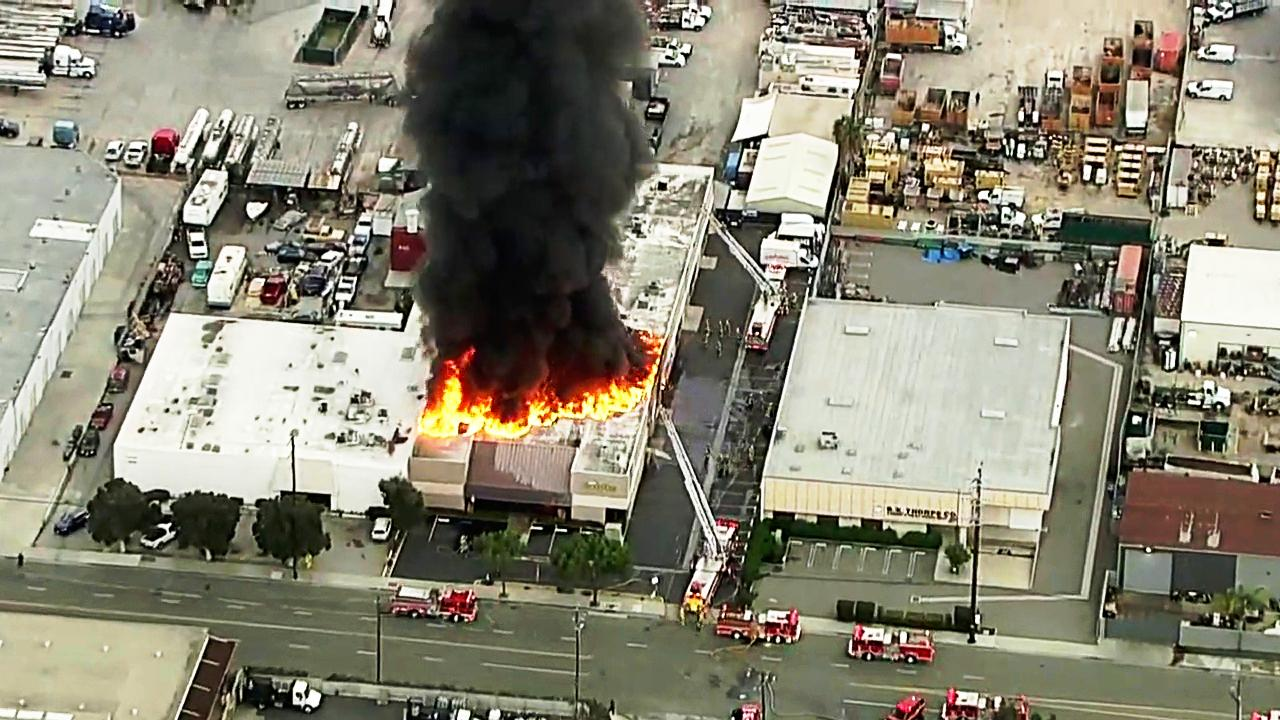fire: (485, 375, 652, 428), (417, 352, 478, 440)
smoke: (443, 0, 599, 345)
